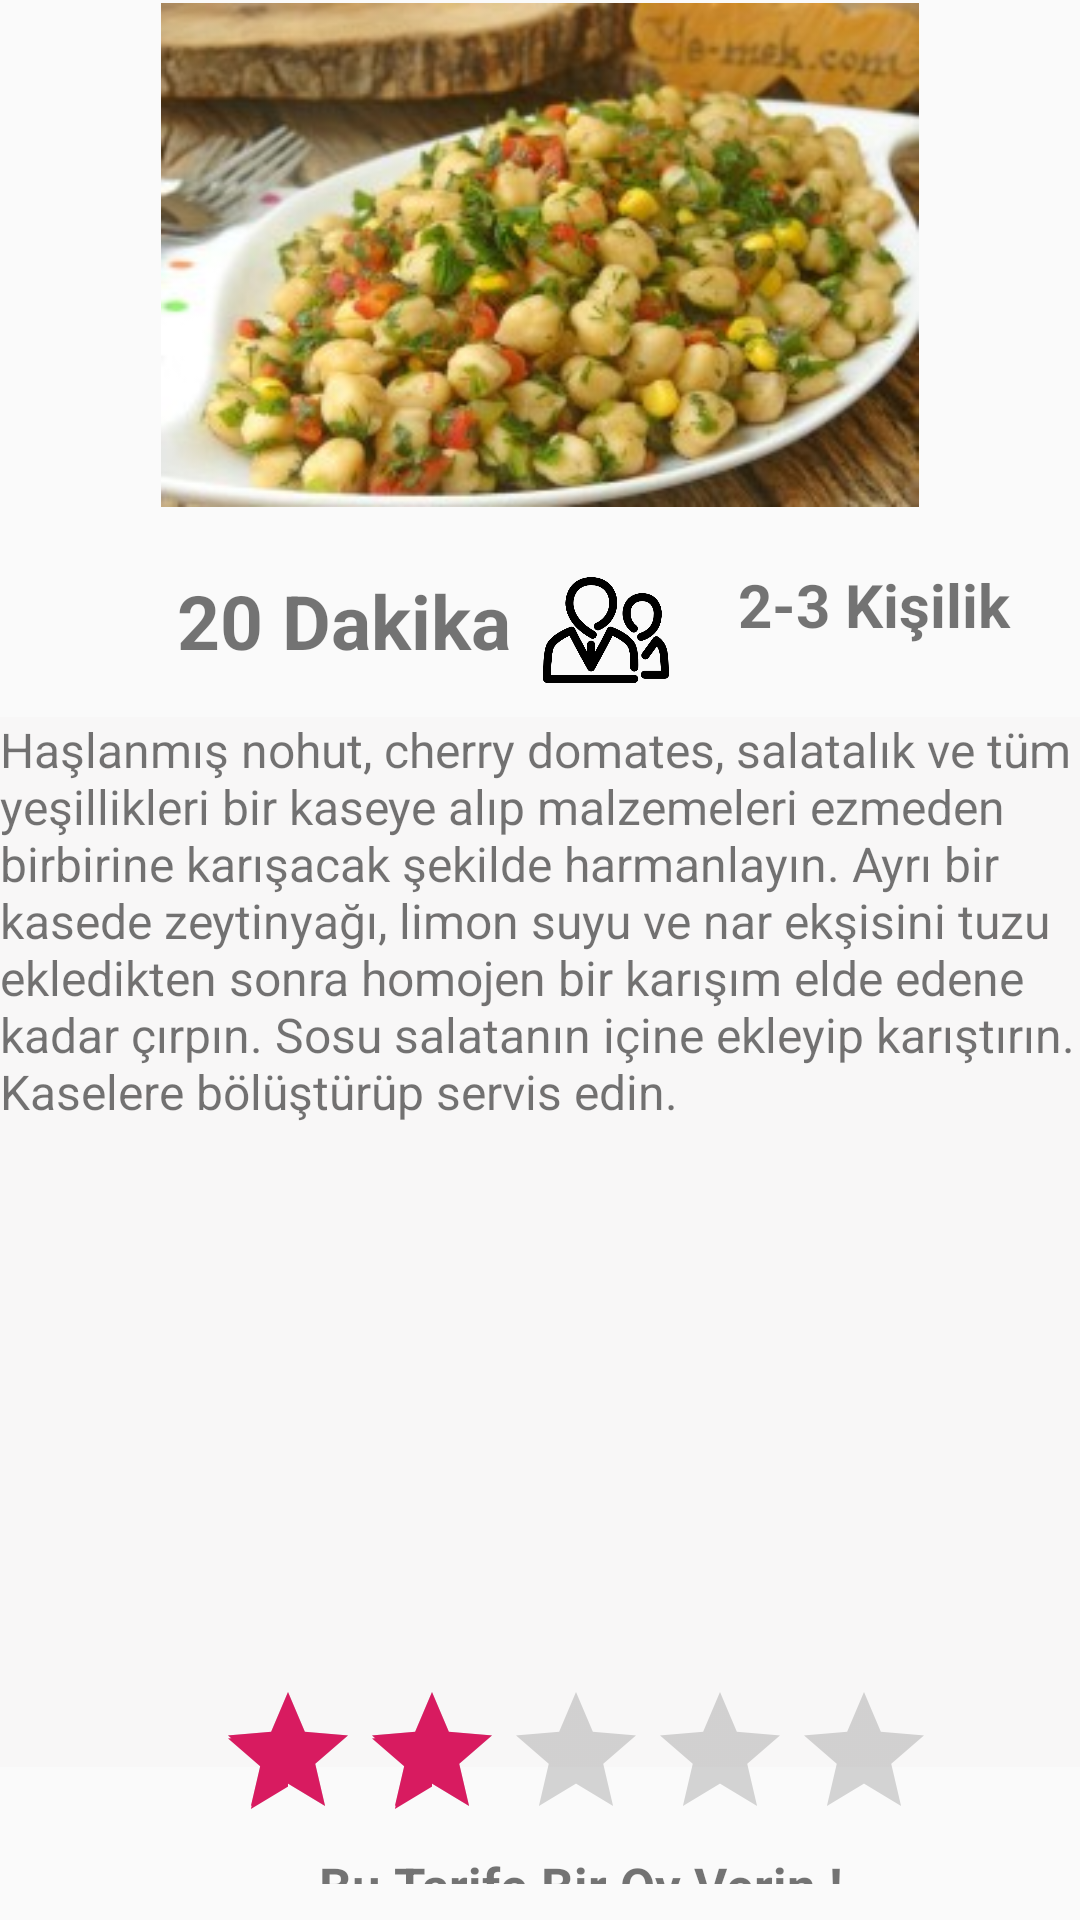

Where icons sit on this 1080w x 1920h app screen, as Rect(x1, y1, x2, y2):
personicon: Rect(543, 577, 669, 683)
